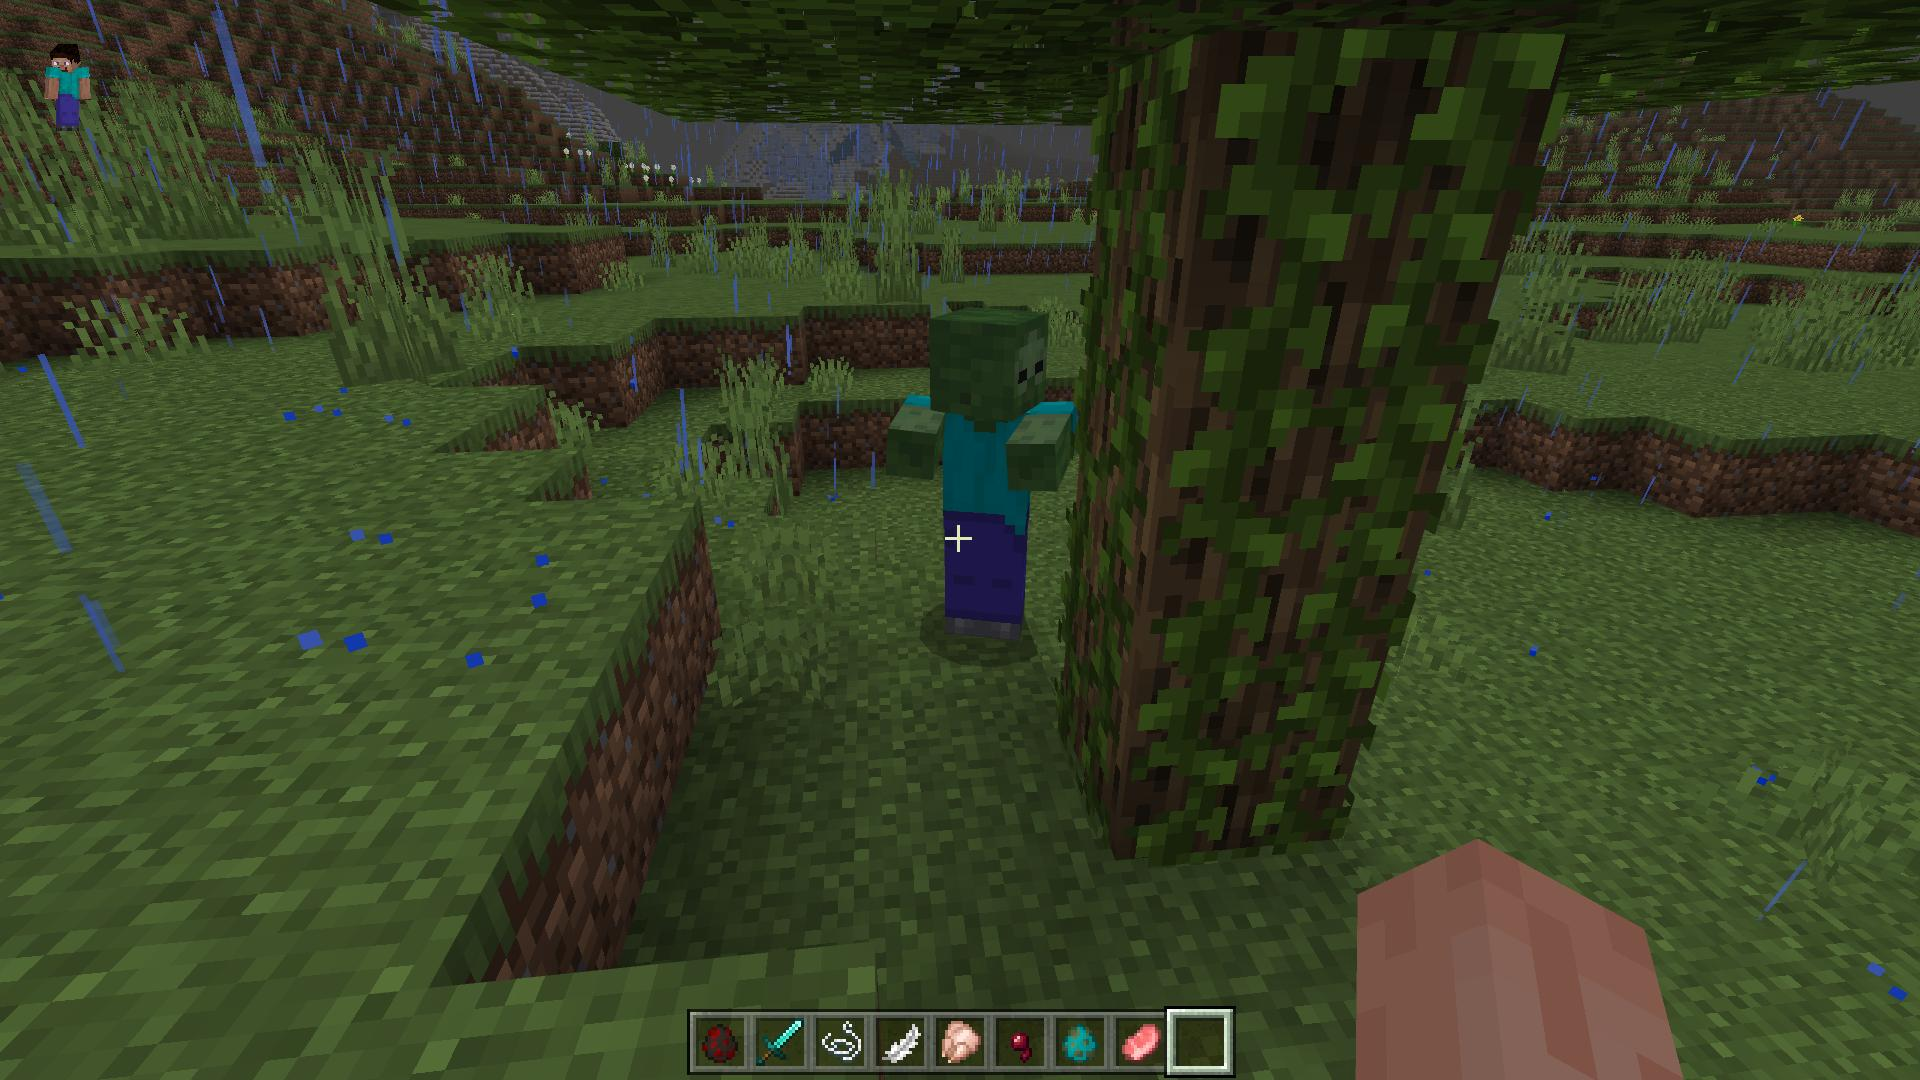zombie: (886, 299, 1080, 662)
